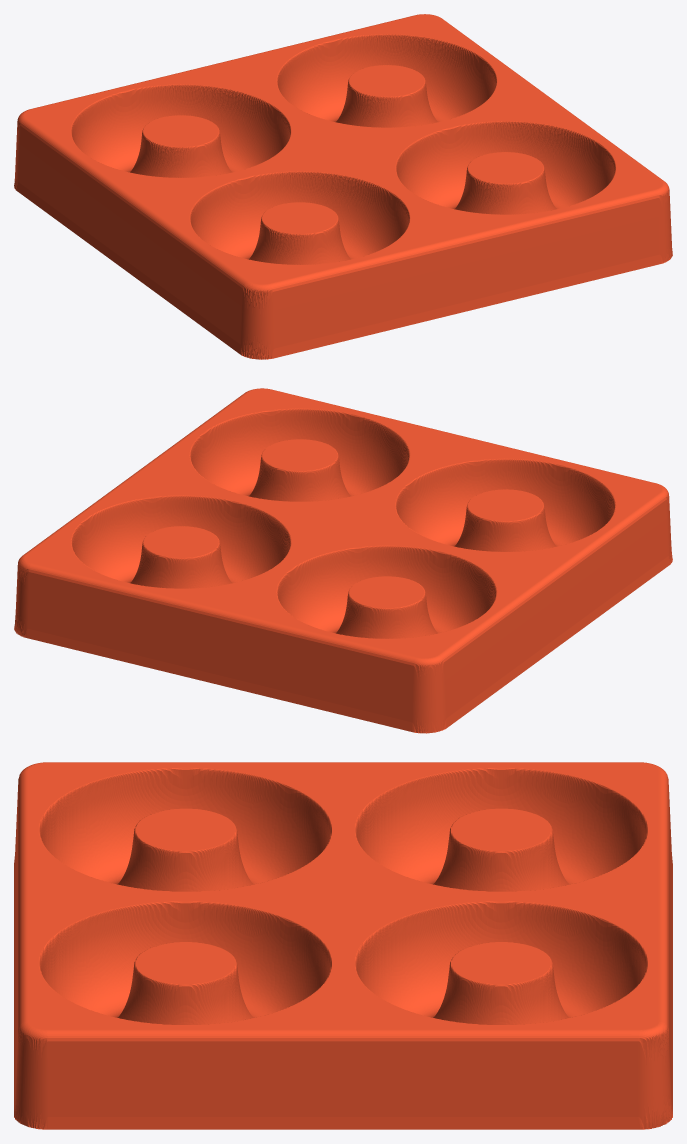
Rendered from mold.glb.
3 renders of one model, top to bottom at view 1: azimuth 30°, elevation 25°; view 2: azimuth 150°, elevation 25°; view 3: azimuth 270°, elevation 25°, orthographic. The views are drawn at different scales.
Parts seen in each view (by area): view 1: geometry_0; view 2: geometry_0; view 3: geometry_0.
Part boxes in pixels (<box>): geometry_0: <box>14,14,672,359</box>; geometry_0: <box>14,388,672,733</box>; geometry_0: <box>14,762,672,1129</box>.
Size of the model in its own units: 0.1737 by 0.0274 by 0.1737.
